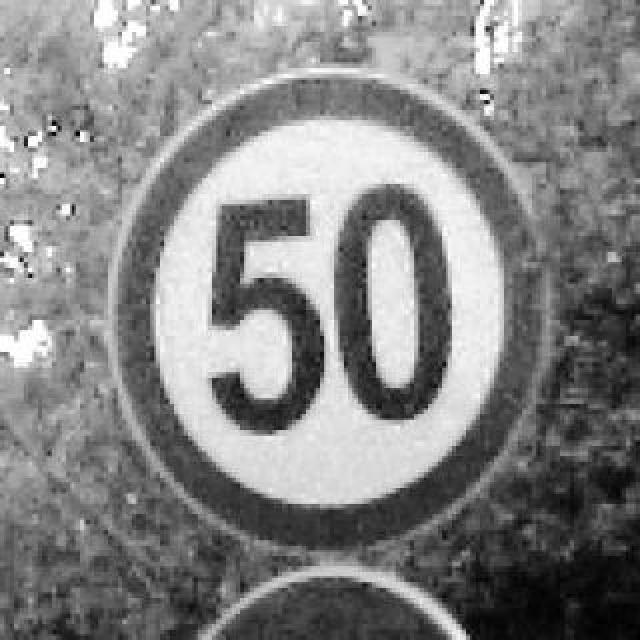50 kph: (98, 62, 546, 546)
